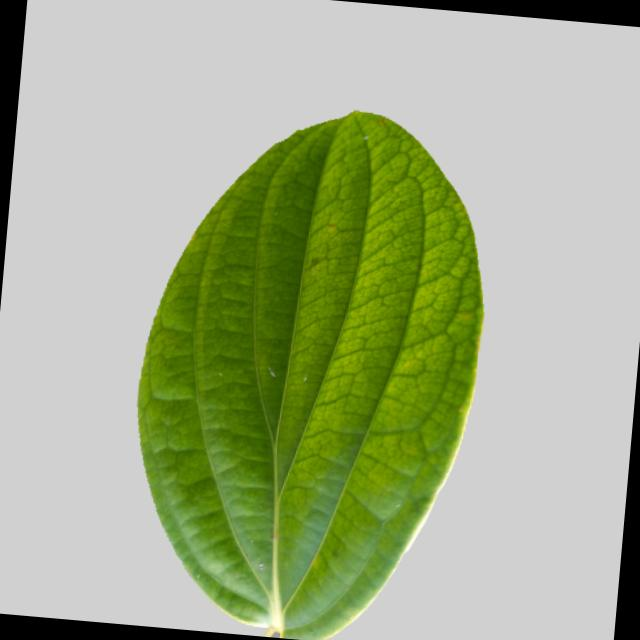healthy: (106, 83, 513, 640)
